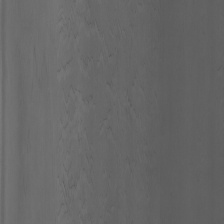silk_spot: (48, 13, 130, 206)
